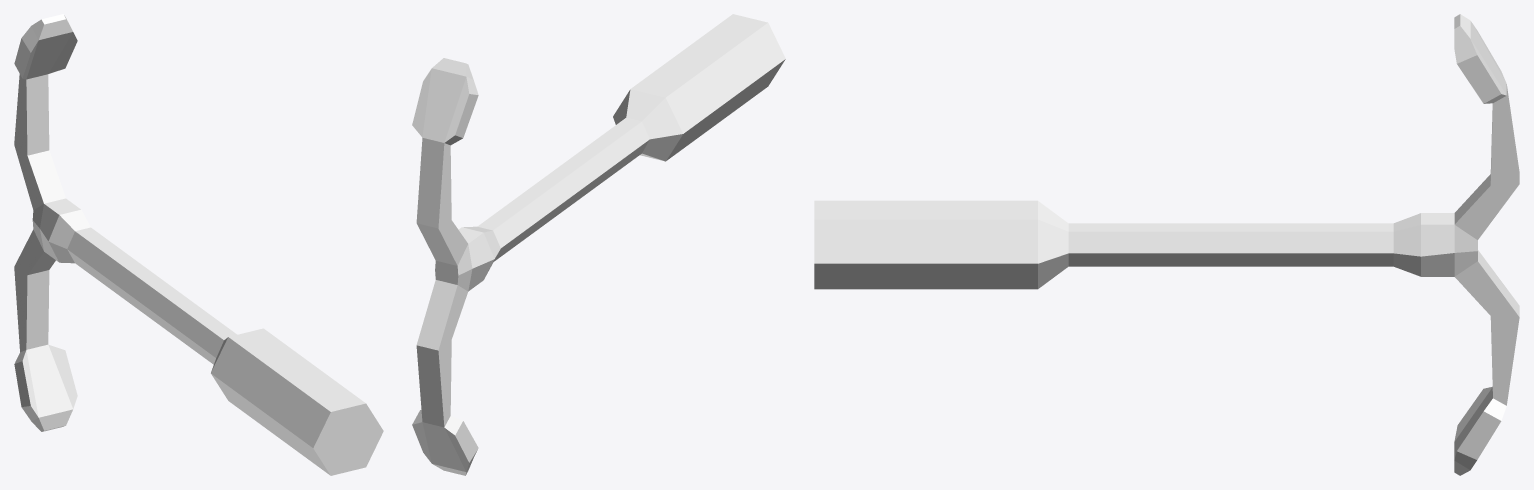
The model's file is venice_light.fbx.
The picture shows the model from 3 angles, left to right: view 1: azimuth 30°, elevation 25°; view 2: azimuth 150°, elevation 25°; view 3: azimuth 270°, elevation 25°; orthographic projection. The views are drawn at different scales.
Parts seen in each view (by area): view 1: Cylinder.041; view 2: Cylinder.041; view 3: Cylinder.041.
Part boxes in pixels (box(x1,y1,x2,y2)): Cylinder.041: box(14, 14, 383, 475); Cylinder.041: box(412, 14, 785, 475); Cylinder.041: box(814, 14, 1519, 475).
Bounding box in the file's own units: 174 × 971 × 1378.
